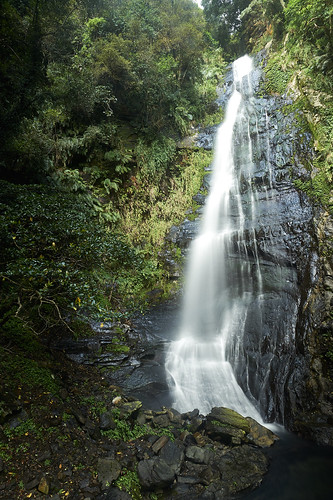wufengciWaterfall: (148, 49, 294, 410)
